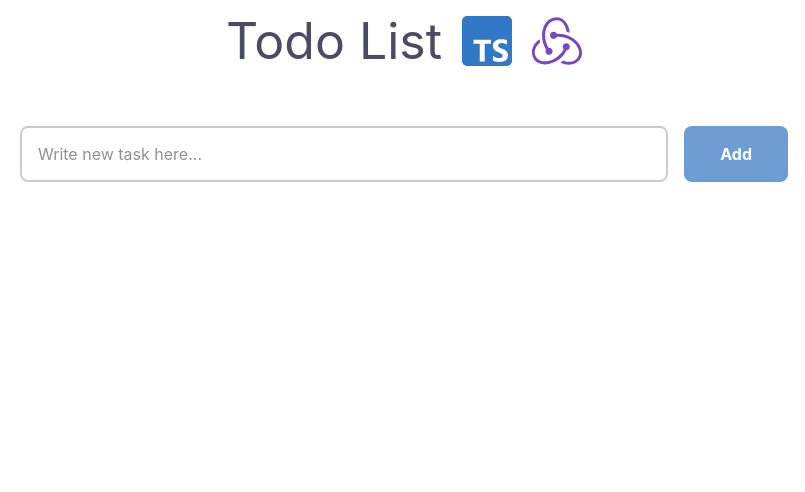
Scenario: My First E2E Test › Clear Local Storage btn is absent if the todos list in state is empty
The width and height of the screenshot is (805, 492).
Check: the text "clear local storage" is not shown
Type "Test todo" into the field with id "new-todo-input" at (344, 154), box [20,126,668,182]
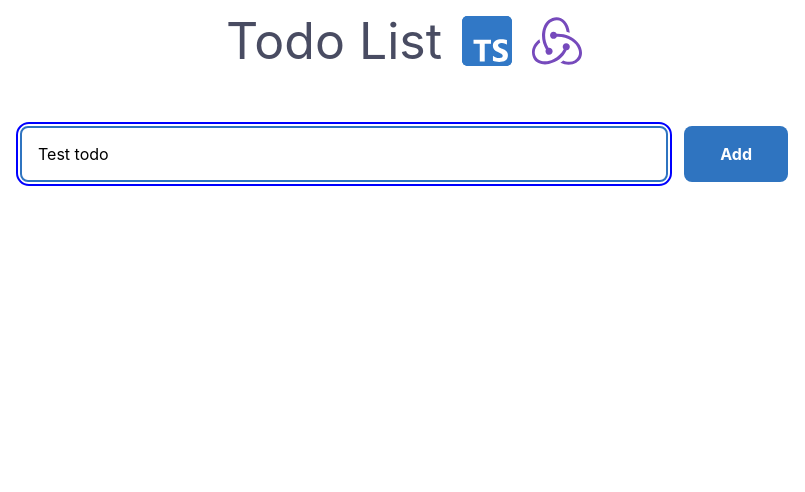
Click the button "Add" at (736, 154), box [684,126,788,182]
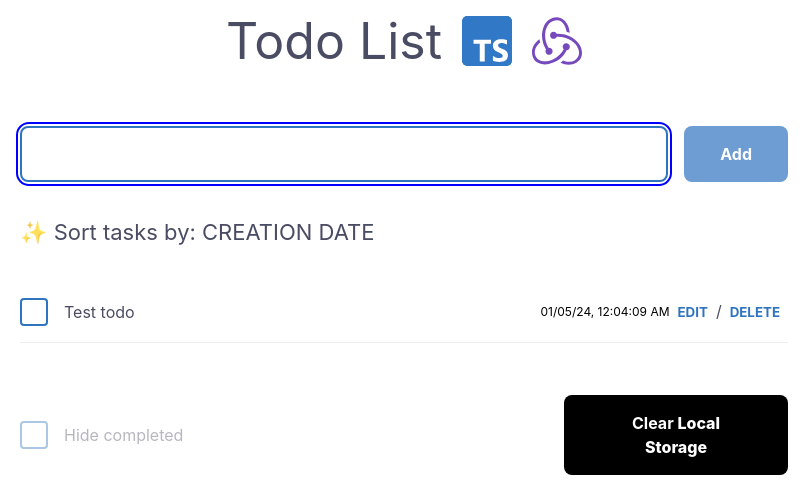
Check: the checkbox "Test todo" is shown, box [64,300,135,324]
Check: the button "Clear Local Storage" is shown, box [564,395,788,475]
